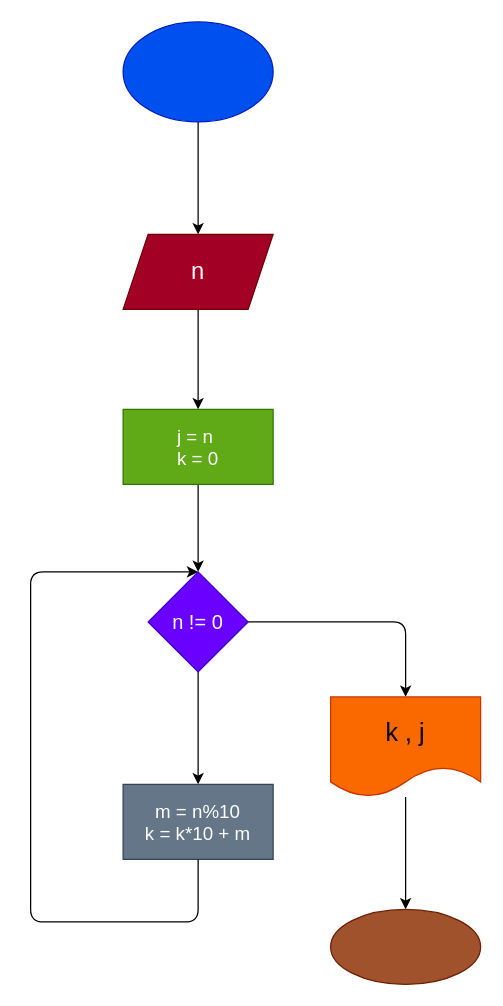
Some shapes in this 503 by 1006 pixel diagram are drawn without their labels. Here are the shapes that lost their labels. From the top down, the centre of each, then its label:
(197,71): INICIO
(405,946): FIN
